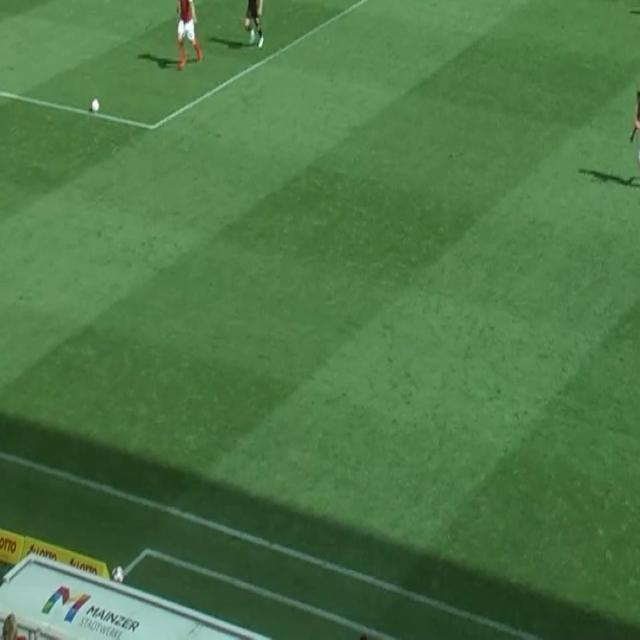ball: (91, 98, 100, 114)
